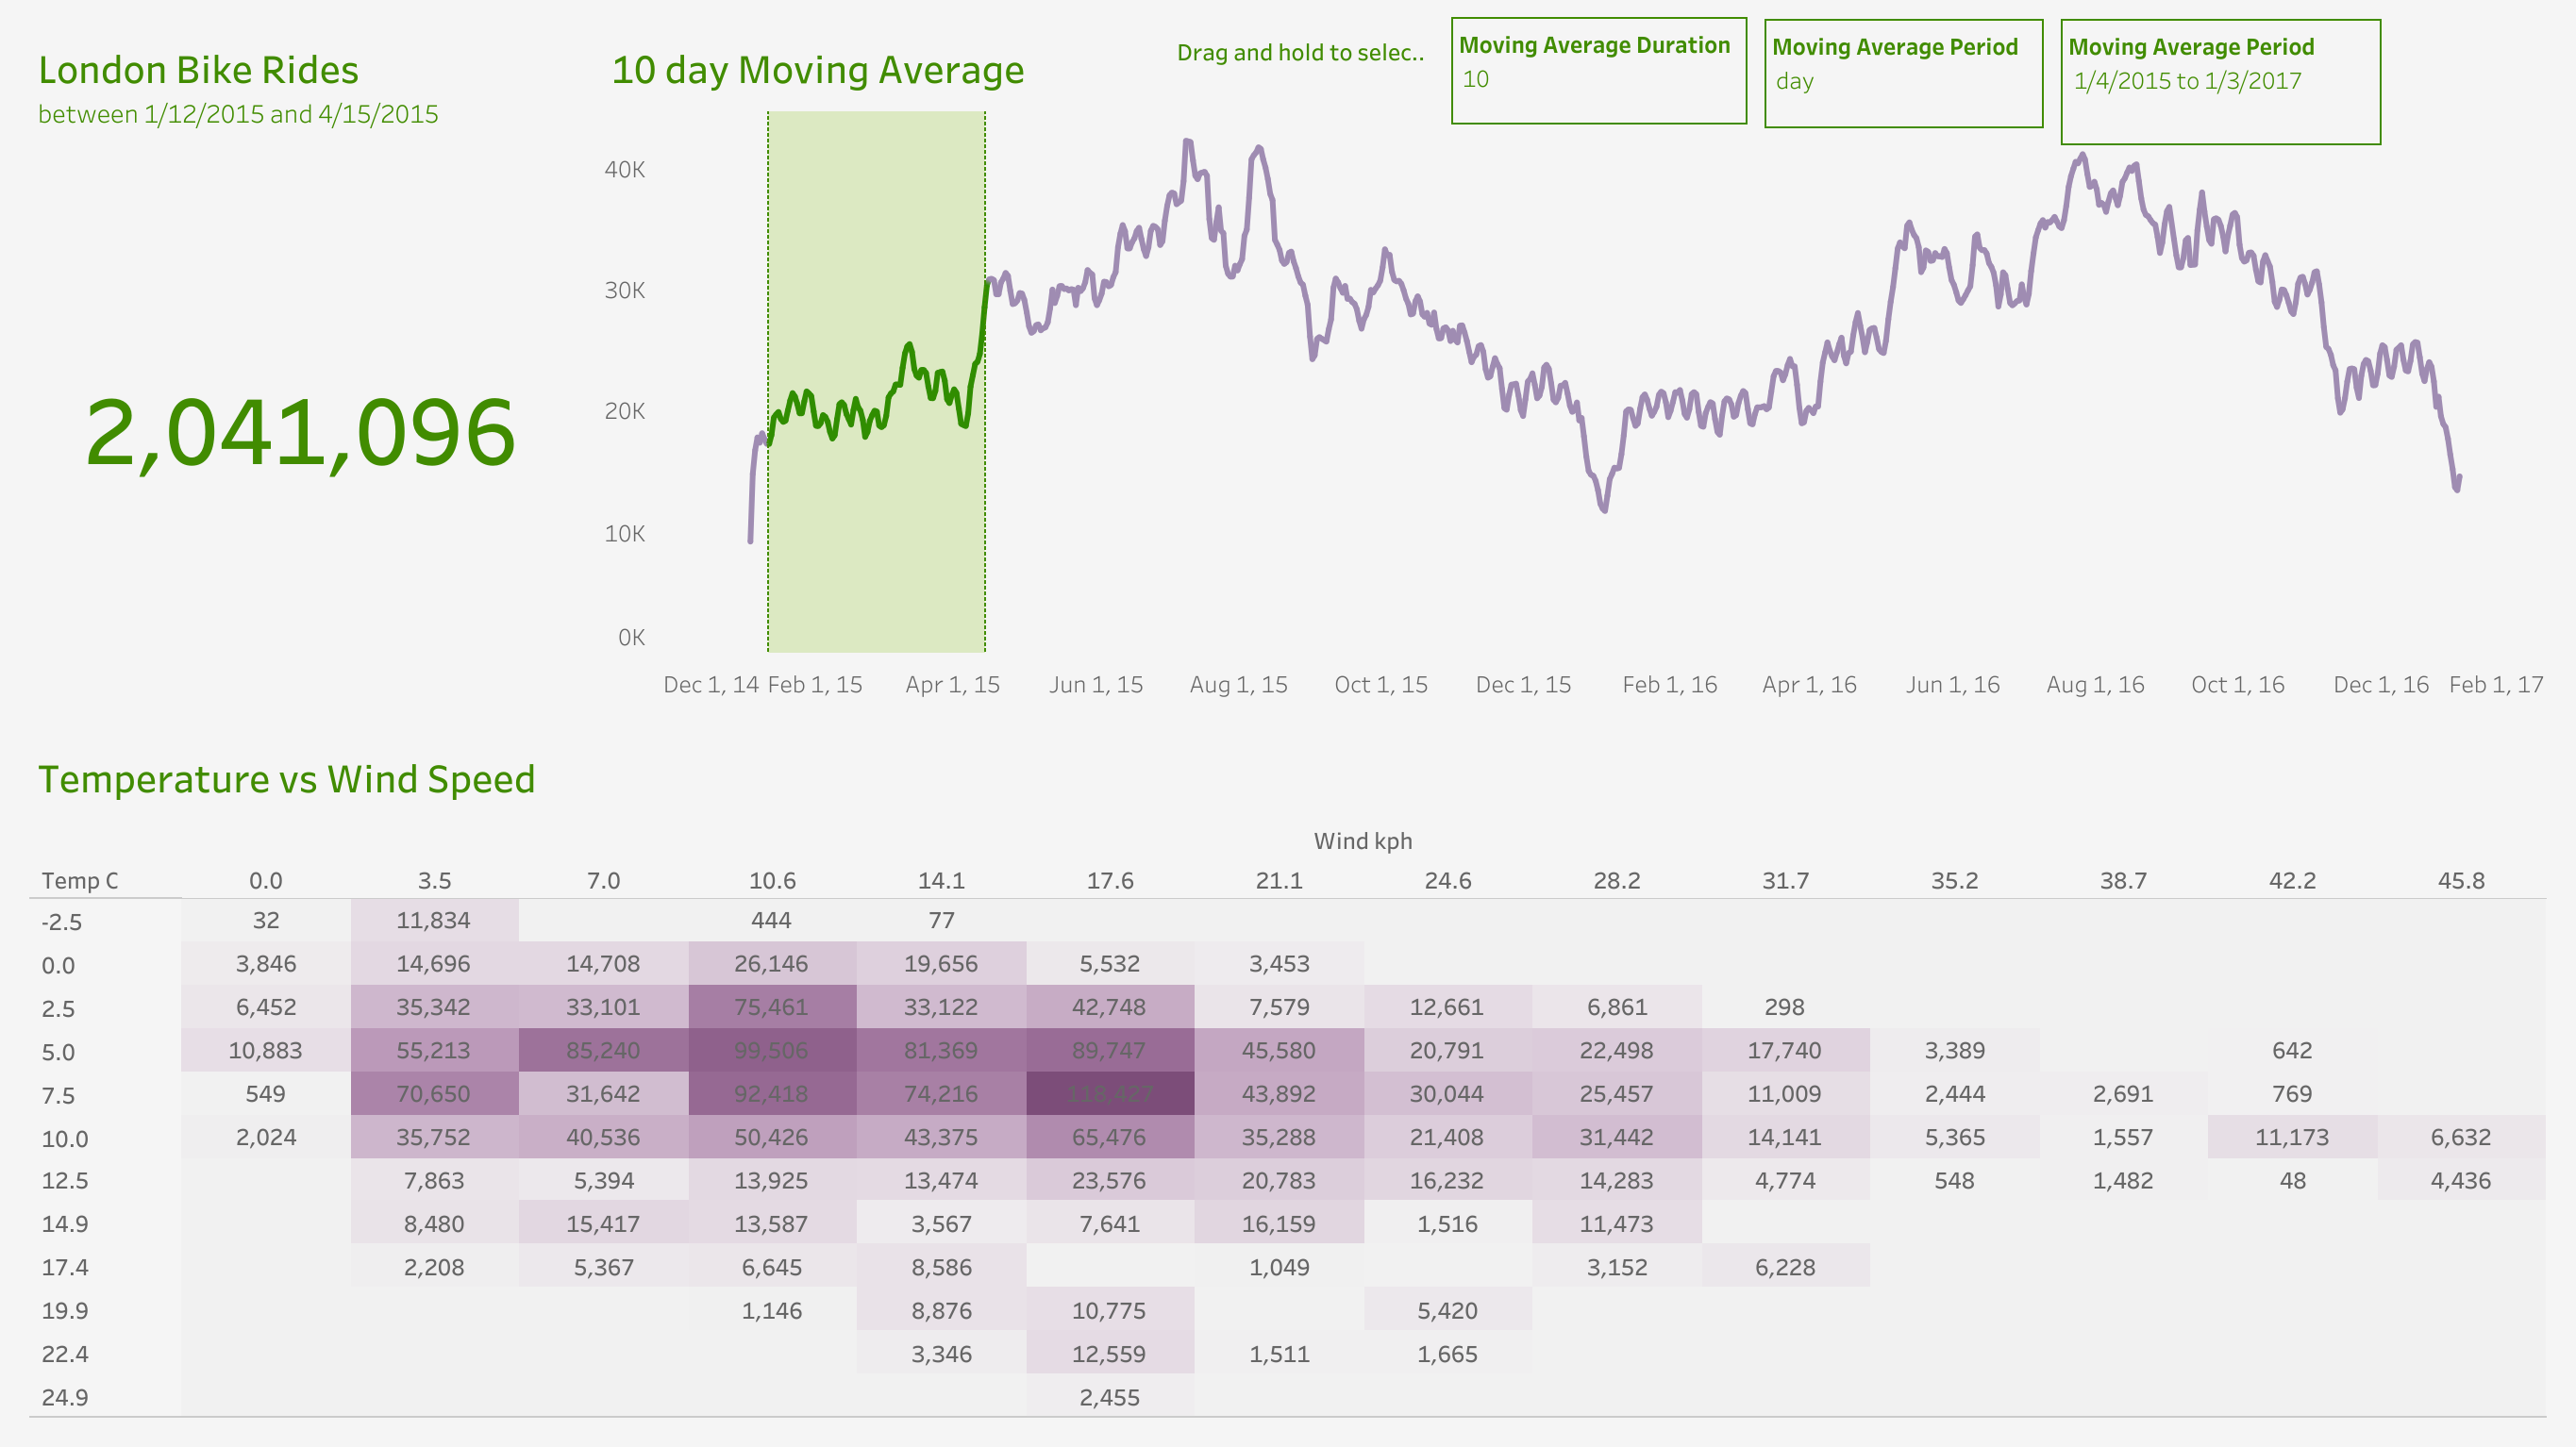

Layout of this report page (visuals, bound fields, positions):
{"tool":"tableau","page":{"name":"Dashboard 1","canvas":[1366,768],"ordinal":0},"visuals":[{"type":"worksheet","title":"Bike Rides","mark":"Automatic","box":[8,8,304,376]},{"type":"worksheet","title":"Moving Average","mark":"Automatic","rows":["Calculation1"],"cols":["Calculation_4065624601115201538"],"box":[312,8,1046,376]},{"type":"parameter","param":"[Parameters].[Parameter 2]","box":[769,9,157,57]},{"type":"text","box":[621,10,137,34]},{"type":"parameter","param":"[Parameters].[Parameter 1]","box":[935,10,148,58]},{"type":"filter","title":"Moving Average","param":"[federated.0j120y30pvvz35181lchi10wu99g].[none:Calculation_4065624601115201538:q","box":[1092,10,170,67]},{"type":"worksheet","title":"Heatmap","mark":"Square","rows":["temp real C (bin)"],"cols":["Wind Speed Kph (bin)"],"box":[8,384,1350,376]}]}

Visuals, with their boxes in screenshot pixels (x1, y1, x2, y2), scaled from the page's 1366x768 canvas onto the 2576x1447 screenshot:
"Bike Rides" worksheet: detection(15, 15, 589, 723)
"Moving Average" worksheet: detection(589, 15, 2561, 723)
parameter: detection(1450, 17, 1747, 125)
text: detection(1171, 19, 1430, 83)
parameter: detection(1764, 19, 2042, 128)
"Moving Average" filter: detection(2059, 19, 2380, 145)
"Heatmap" worksheet (Square marks): detection(15, 723, 2561, 1432)
